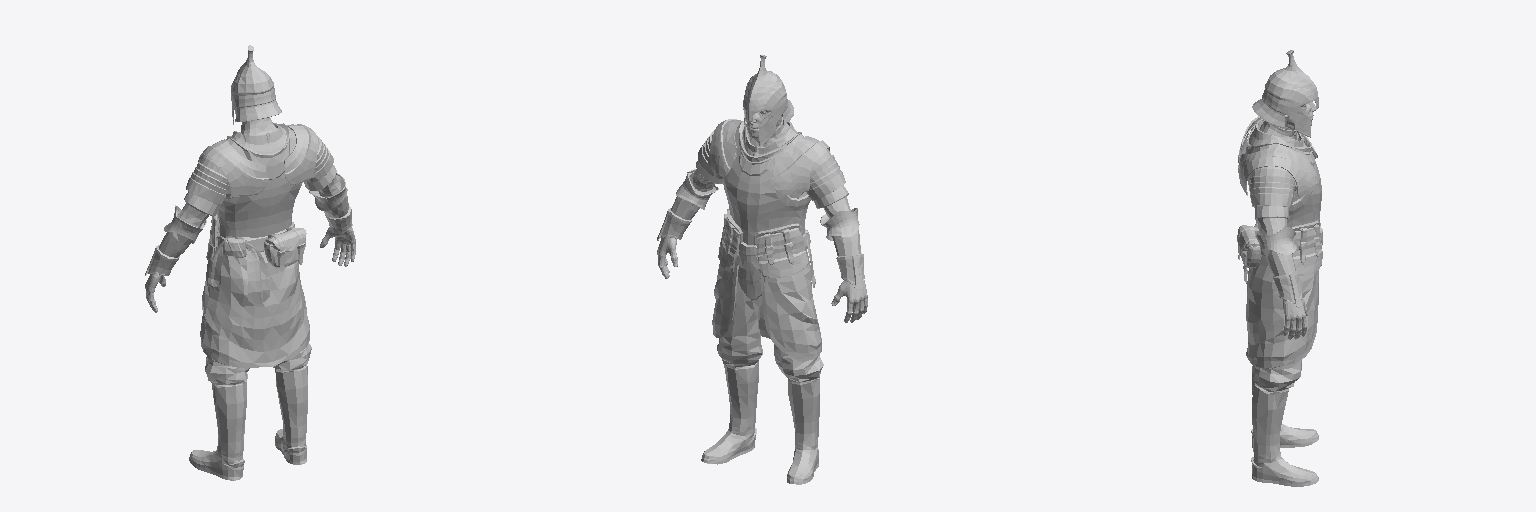
The model's file is CAVALIERE_ST.obj.
3 renders of one model, left to right at view 1: azimuth 30°, elevation 25°; view 2: azimuth 150°, elevation 25°; view 3: azimuth 270°, elevation 25°, orthographic.
Visible parts, largest first — view 1: Mesh5 Model, Mesh2 Model, Mesh24 Model, Mesh17 Model, Mesh15 Model, Mesh4 Model, Mesh18 Model, Mesh20 Model, Mesh6 Model, Mesh3 Model, Mesh25 Model, Mesh19 Model (+1 smaller); view 2: Mesh5 Model, Mesh2 Model, Mesh24 Model, Mesh17 Model, Mesh15 Model, Mesh20 Model, Mesh18 Model, Mesh25 Model, Mesh1 Model, Mesh19 Model, Mesh14 Model, Mesh3 Model; view 3: Mesh5 Model, Mesh2 Model, Mesh24 Model, Mesh15 Model, Mesh16 Model, Mesh25 Model, Mesh4 Model, Mesh3 Model, Mesh14 Model.
Part boxes in pixels (bbox=[...]): Mesh5 Model: bbox=[189, 247, 311, 480]; Mesh2 Model: bbox=[184, 123, 336, 260]; Mesh24 Model: bbox=[231, 45, 281, 124]; Mesh17 Model: bbox=[198, 139, 268, 197]; Mesh15 Model: bbox=[284, 124, 317, 185]; Mesh4 Model: bbox=[264, 227, 306, 271]; Mesh18 Model: bbox=[186, 155, 229, 204]; Mesh20 Model: bbox=[145, 232, 192, 275]; Mesh6 Model: bbox=[246, 240, 269, 304]; Mesh3 Model: bbox=[320, 227, 355, 266]; Mesh25 Model: bbox=[324, 195, 352, 233]; Mesh19 Model: bbox=[164, 205, 206, 243]; Mesh5 Model: bbox=[701, 249, 823, 484]; Mesh2 Model: bbox=[696, 121, 848, 277]; Mesh24 Model: bbox=[743, 55, 793, 146]; Mesh17 Model: bbox=[770, 136, 829, 194]; Mesh15 Model: bbox=[708, 119, 742, 178]; Mesh20 Model: bbox=[832, 230, 864, 289]; Mesh18 Model: bbox=[806, 149, 845, 200]; Mesh25 Model: bbox=[657, 196, 699, 240]; Mesh1 Model: bbox=[831, 280, 867, 322]; Mesh19 Model: bbox=[820, 208, 859, 240]; Mesh14 Model: bbox=[676, 169, 718, 209]; Mesh3 Model: bbox=[657, 237, 677, 278]; Mesh5 Model: bbox=[1246, 255, 1318, 486]; Mesh2 Model: bbox=[1245, 119, 1322, 275]; Mesh24 Model: bbox=[1252, 50, 1318, 137]; Mesh15 Model: bbox=[1238, 147, 1317, 195]; Mesh16 Model: bbox=[1250, 166, 1295, 208]; Mesh25 Model: bbox=[1262, 249, 1302, 307]; Mesh4 Model: bbox=[1237, 225, 1261, 271]; Mesh3 Model: bbox=[1283, 298, 1308, 339]; Mesh14 Model: bbox=[1255, 227, 1296, 254].
Size of the model in its own units: 41.77 by 79.41 by 15.19.